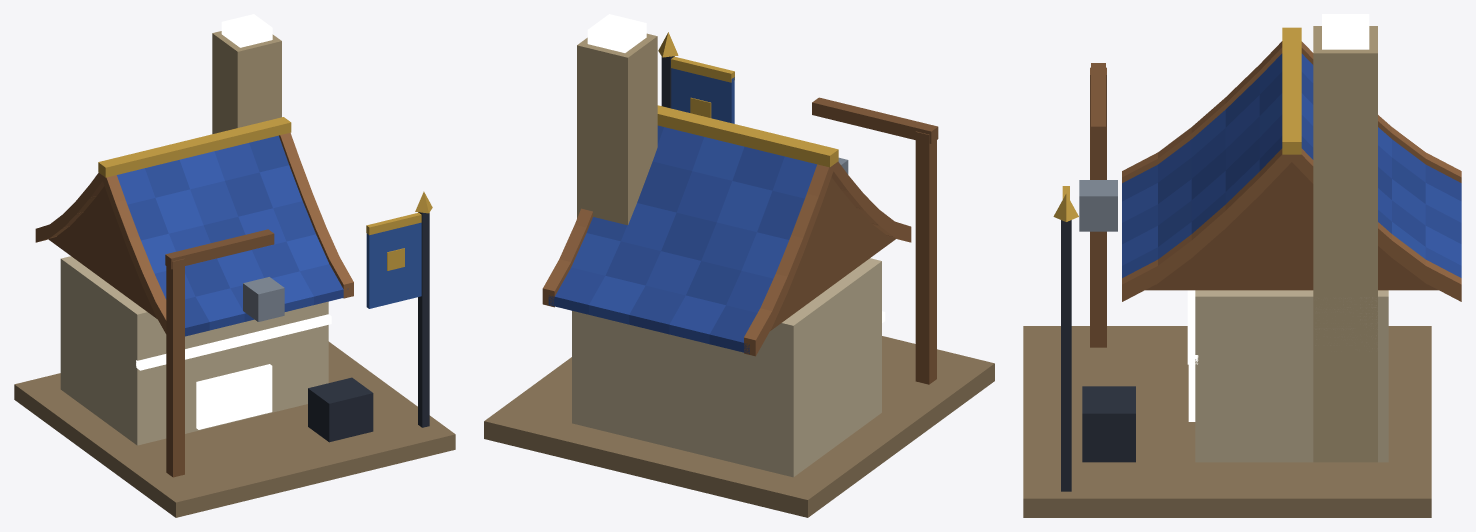
File: workshop_t3.glb
The picture shows the model from 3 angles, left to right: view 1: azimuth 30°, elevation 25°; view 2: azimuth 150°, elevation 25°; view 3: azimuth 270°, elevation 25°; orthographic projection. The views are drawn at different scales.
Visible parts, largest first — view 1: body, glow; view 2: body, glow; view 3: body, glow.
Part boxes in pixels (x1,y1,x2,y2): body: (14,31,455,517); glow: (136,14,331,429); body: (484,32,994,517); glow: (587,14,885,322); body: (1023,26,1461,517); glow: (1187,14,1369,421).
Bounding box in the file's own units: 1.9 × 2.28 × 2.04.
